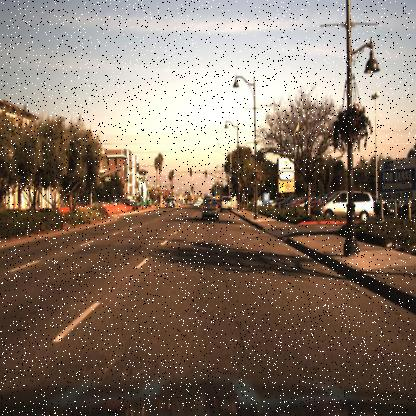car: (318, 184, 380, 228), (316, 188, 376, 224), (196, 196, 218, 223), (219, 194, 233, 216), (220, 192, 234, 213)
trafficLight-Green: (187, 168, 195, 180)
